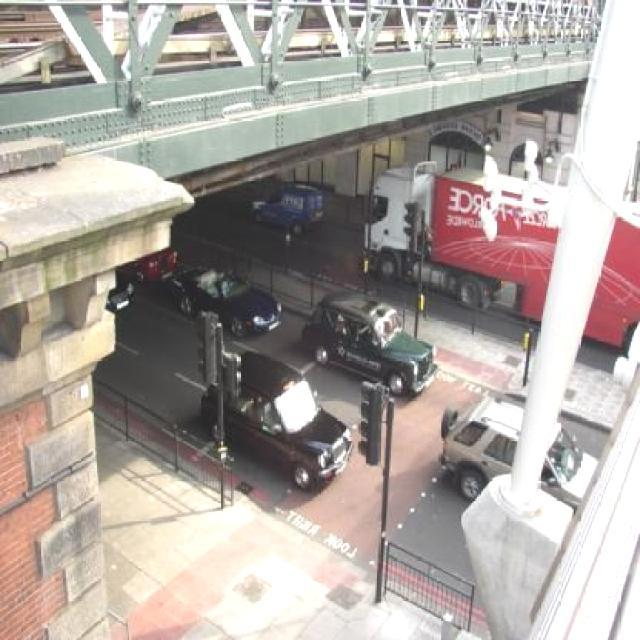Car: (204, 353, 350, 490), (440, 400, 598, 504), (305, 292, 445, 392), (177, 264, 284, 343)
Truck: (360, 163, 640, 334)
